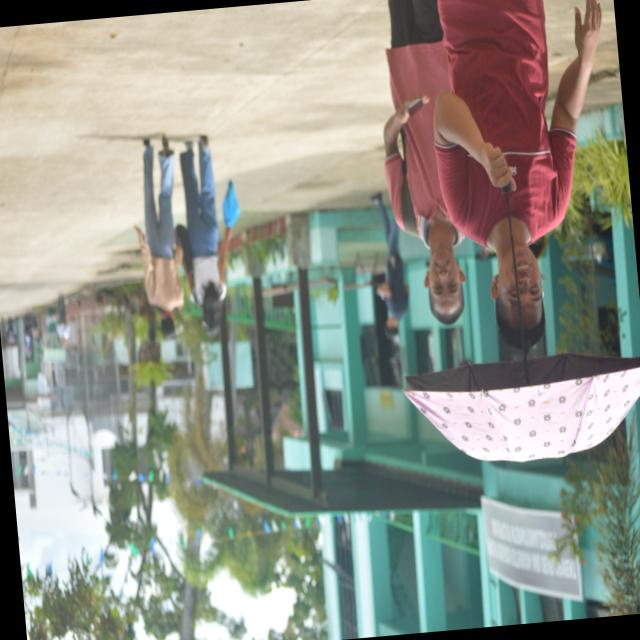person: (434, 0, 601, 347), (384, 0, 465, 324), (181, 135, 231, 334), (136, 135, 183, 337), (370, 192, 408, 338), (57, 293, 70, 346)
